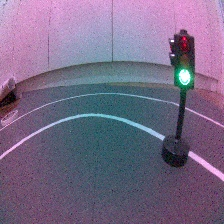green: (158, 28, 199, 168)
